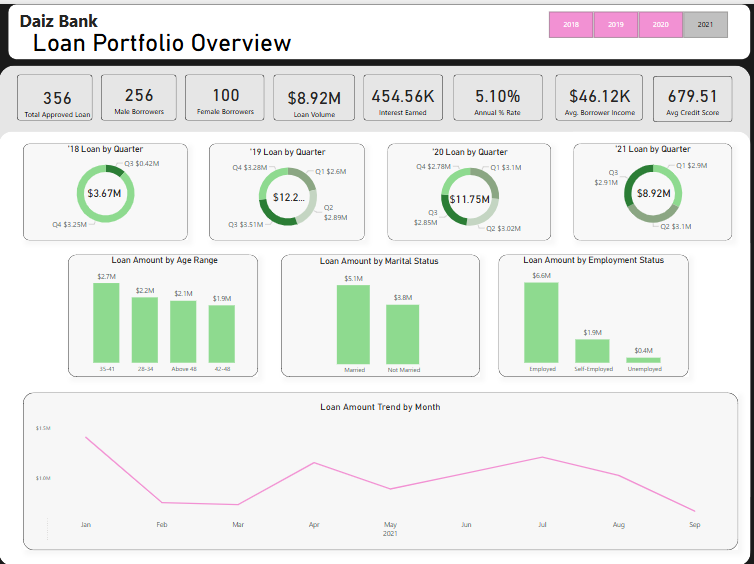

Layout of this report page (visuals, bound fields, positions):
{"tool":"powerbi","page":{"name":"Overview","canvas":[2000,1300],"ordinal":0},"visuals":[{"type":"shape","box":[272.2,137.2,1670.2,1110.6],"z":0},{"type":"shape","box":[272.2,283.1,1670.2,964.7],"z":1000},{"type":"shape","box":[426.8,557.5,422.4,272.2],"z":2000},{"type":"shape","box":[326.6,309.2,365.8,215.6],"z":3000},{"type":"shape","box":[740.4,309.2,346.2,215.6],"z":4000},{"type":"shape","box":[1136.7,309.2,363.7,215.6],"z":5000},{"type":"shape","box":[1550.4,309.2,352.8,215.6],"z":6000},{"type":"shape","box":[899.3,557.5,442,272.2],"z":7000},{"type":"shape","box":[1384.9,557.5,422.4,272.2],"z":8000},{"type":"shape","box":[326.6,864.5,1589.6,350.6],"z":9000},{"type":"donutChart","title":"''18 Loan by Quarter","fields":{"Y":["Measures Table.Total Loan 2018"],"Category":["Date Table.Quater Name"]},"box":[346.2,309.2,326.6,200.3],"z":10000},{"type":"shape","box":[313.6,156.8,167.7,102.3],"z":11000},{"type":"shape","box":[500.8,156.8,167.7,102.3],"z":12000},{"type":"shape","box":[688.1,156.8,176.4,102.3],"z":13000},{"type":"shape","box":[881.9,156.8,180.7,102.3],"z":14000},{"type":"shape","box":[1084.4,156.8,176.4,102.3],"z":15000},{"type":"shape","box":[1509,156.8,193.8,102.3],"z":16000},{"type":"shape","box":[1726.8,159,176.4,102.3],"z":17000},{"type":"donutChart","title":"''19 Loan by Quarter","fields":{"Y":["Measures Table.Total Loan 2019"],"Category":["Date Table.Quater Name"]},"box":[740,318,350,200],"z":18000},{"type":"donutChart","title":"''20 Loan by Quarter","fields":{"Y":["Measures Table.Total Loan 2020"],"Category":["Date Table.Quater Name"]},"box":[1156.3,317.9,326.6,200.3],"z":19000},{"type":"donutChart","title":"''21 Loan by Quarter","fields":{"Y":["Measures Table.Total Loan 2021"],"Category":["Date Table.Quater Name"]},"box":[1563.5,309.2,326.6,200.3],"z":20000},{"type":"card","fields":{"Values":["Measures Table.Total Loan 2021"]},"box":[1663.7,396.3,128.5,43.6],"z":21000},{"type":"card","fields":{"Values":["Measures Table.Total Loan 2018"]},"box":[452.9,396.3,106.7,43.6],"z":22000},{"type":"card","fields":{"Values":["Measures Table.Total Loan 2019"]},"box":[873.2,407.2,87.1,43.6],"z":23000},{"type":"card","fields":{"Values":["Measures Table.Total Loan 2020"]},"box":[1260.8,409.4,117.6,43.6],"z":24000},{"type":"clusteredColumnChart","title":"Loan Amount by Age Range","fields":{"Y":["Measures Table.Sum Loan Amt"],"Category":["loan dataset.Age Range"]},"box":[442,557.5,396.3,272.2],"z":25000},{"type":"clusteredColumnChart","title":"Loan Amount by Employment Status","fields":{"Y":["Measures Table.Sum Loan Amt"],"Category":["loan dataset.Employment Status"]},"box":[1391.5,555.3,409.4,272.2],"z":26000},{"type":"clusteredColumnChart","title":"Loan Amount by Marital Status","fields":{"Y":["Measures Table.Sum Loan Amt"],"Category":["loan dataset.Marital Status"]},"box":[921.1,559.6,396.3,272.2],"z":27000},{"type":"lineChart","title":"Loan Amount Trend by Month","fields":{"Category":["Date Table.Year","Date Table.Month Name"],"Y":["Measures Table.Sum Loan Amt"]},"box":[348.4,881.9,1541.7,317.9],"z":28000},{"type":"card","fields":{"Values":["Measures Table.Total Borrowers"]},"box":[322.3,165.5,159,95.8],"z":29000},{"type":"card","fields":{"Values":["Measures Table.Total interest"]},"box":[1091,163.3,161.1,95.8],"z":30000},{"type":"card","fields":{"Values":["Measures Table.Sum Loan Amt"]},"box":[881.9,165.5,180.7,95.8],"z":31000},{"type":"card","fields":{"Values":["Measures Table.Female"]},"box":[699,161.1,152.4,95.8],"z":32000},{"type":"card","fields":{"Values":["Measures Table.Male"]},"box":[513.9,161.1,141.5,95.8],"z":33000},{"type":"card","fields":{"Values":["Measures Table.Avg. Income"]},"box":[1515.6,163.3,182.9,95.8],"z":34000},{"type":"card","fields":{"Values":["Measures Table.Avg Credit Score"]},"box":[1726.8,163.3,176.4,95.8],"z":35000},{"type":"shape","box":[294,0,1706,124],"z":36000},{"type":"shape","title":"Loan Portfolio Overview","box":[338,54,598,54],"z":37000},{"type":"slicer","fields":{"Values":["Date Table.Year"]},"box":[1469.8,8.7,446.4,71.9],"z":39000},{"type":"shape","box":[0,0,206.9,1300],"z":40000},{"type":"shape","box":[1284.8,156.8,198.2,102.3],"z":41000},{"type":"card","fields":{"Values":["Measures Table.APR"]},"box":[1293.5,163.3,174.2,95.8],"z":42000},{"type":"textbox","box":[314,8,270,54],"z":42001}]}

Visuals, with their boxes on the page's 2000x1300 design canvas (x1, y1, x2, y2). These are canvas units, not pixel positions in the 754x564 screenshot, which may show the page scaled, cropped or inside an application window:
shape: (272,137,1942,1248)
shape: (272,283,1942,1248)
shape: (427,558,849,830)
shape: (327,309,692,525)
shape: (740,309,1087,525)
shape: (1137,309,1500,525)
shape: (1550,309,1903,525)
shape: (899,558,1341,830)
shape: (1385,558,1807,830)
shape: (327,864,1916,1215)
"''18 Loan by Quarter" donutChart: (346,309,673,510)
shape: (314,157,481,259)
shape: (501,157,668,259)
shape: (688,157,864,259)
shape: (882,157,1063,259)
shape: (1084,157,1261,259)
shape: (1509,157,1703,259)
shape: (1727,159,1903,261)
"''19 Loan by Quarter" donutChart: (740,318,1090,518)
"''20 Loan by Quarter" donutChart: (1156,318,1483,518)
"''21 Loan by Quarter" donutChart: (1564,309,1890,510)
card - Measures Table.Total Loan 2021: (1664,396,1792,440)
card - Measures Table.Total Loan 2018: (453,396,560,440)
card - Measures Table.Total Loan 2019: (873,407,960,451)
card - Measures Table.Total Loan 2020: (1261,409,1378,453)
"Loan Amount by Age Range" clusteredColumnChart: (442,558,838,830)
"Loan Amount by Employment Status" clusteredColumnChart: (1392,555,1801,828)
"Loan Amount by Marital Status" clusteredColumnChart: (921,560,1317,832)
"Loan Amount Trend by Month" lineChart: (348,882,1890,1200)
card - Measures Table.Total Borrowers: (322,166,481,261)
card - Measures Table.Total interest: (1091,163,1252,259)
card - Measures Table.Sum Loan Amt: (882,166,1063,261)
card - Measures Table.Female: (699,161,851,257)
card - Measures Table.Male: (514,161,655,257)
card - Measures Table.Avg. Income: (1516,163,1698,259)
card - Measures Table.Avg Credit Score: (1727,163,1903,259)
shape: (294,0,2000,124)
"Loan Portfolio Overview" shape: (338,54,936,108)
slicer - Date Table.Year: (1470,9,1916,81)
shape: (0,0,207,1300)
shape: (1285,157,1483,259)
card - Measures Table.APR: (1294,163,1468,259)
textbox: (314,8,584,62)
